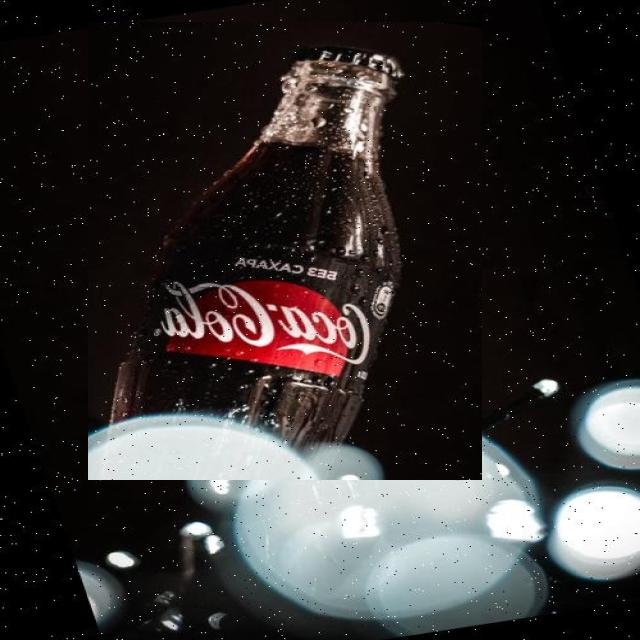coca-cola: (88, 22, 482, 480)
